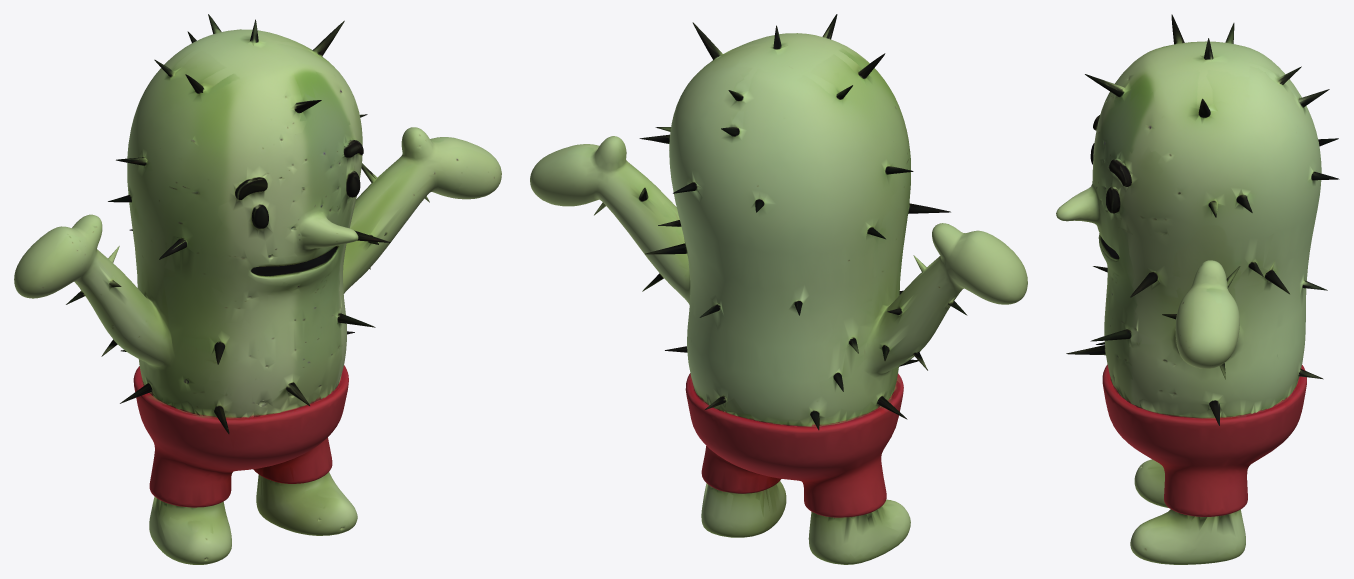
File: cactus_man.glb
3 renders of one model, left to right at view 1: azimuth 30°, elevation 25°; view 2: azimuth 150°, elevation 25°; view 3: azimuth 270°, elevation 25°, orthographic. The views are drawn at different scales.
Parts seen in each view (by area): view 1: material; view 2: material; view 3: material.
Boxes of the visible parts, x1,y1,x2,y2 form: material: (14,14,501,564); material: (530,14,1027,564); material: (1056,14,1339,564).
Size of the model in its own units: 1.11 by 1.11 by 0.5756.
1 material, 1 textured.
